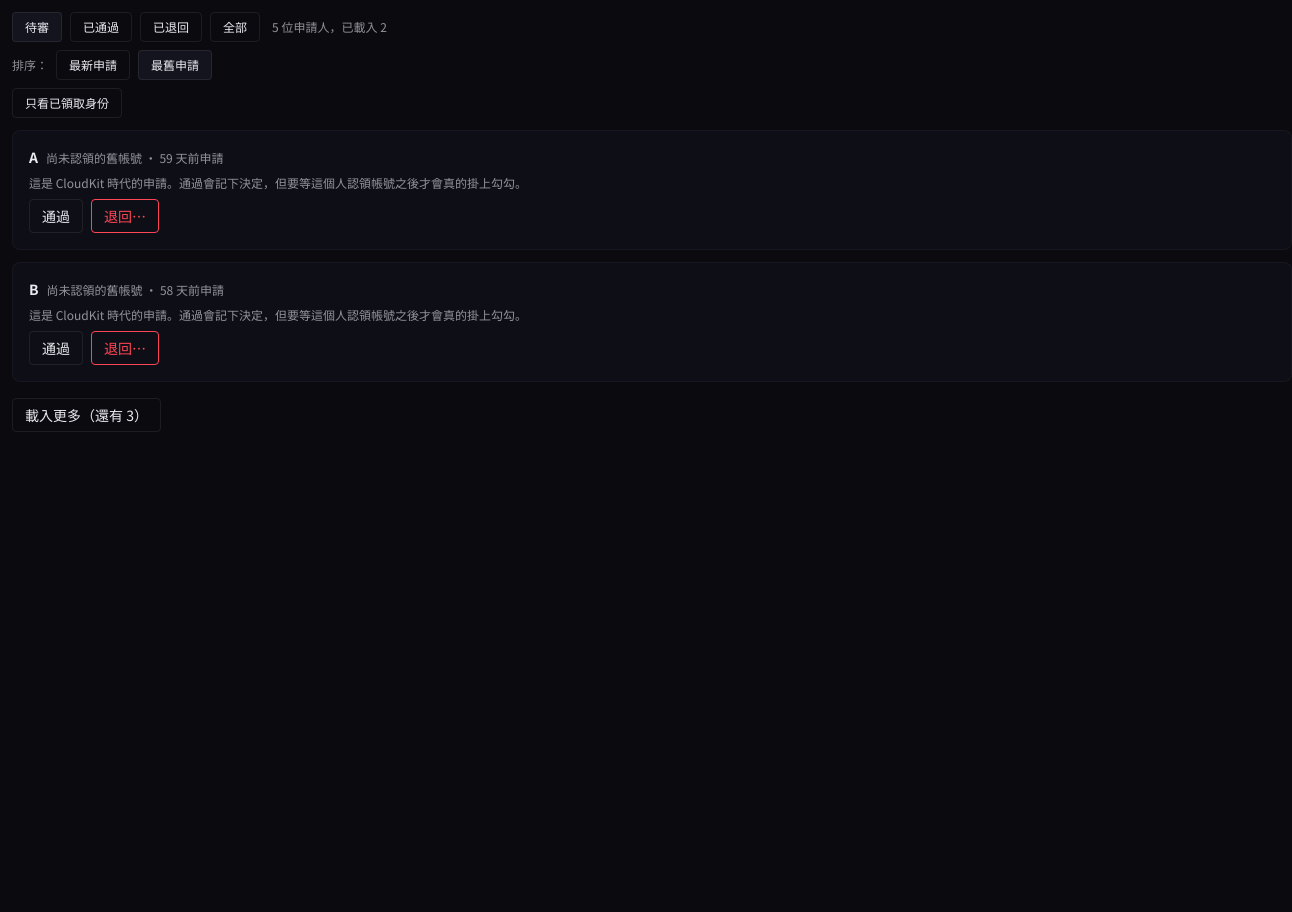
Scenario: BadgesTab paging › does not skip anyone when a review finishes while the next page is on its way
This screenshot has width=1292, height=912.
Click the button "最新申請" at (93, 65), box [56,50,130,80]
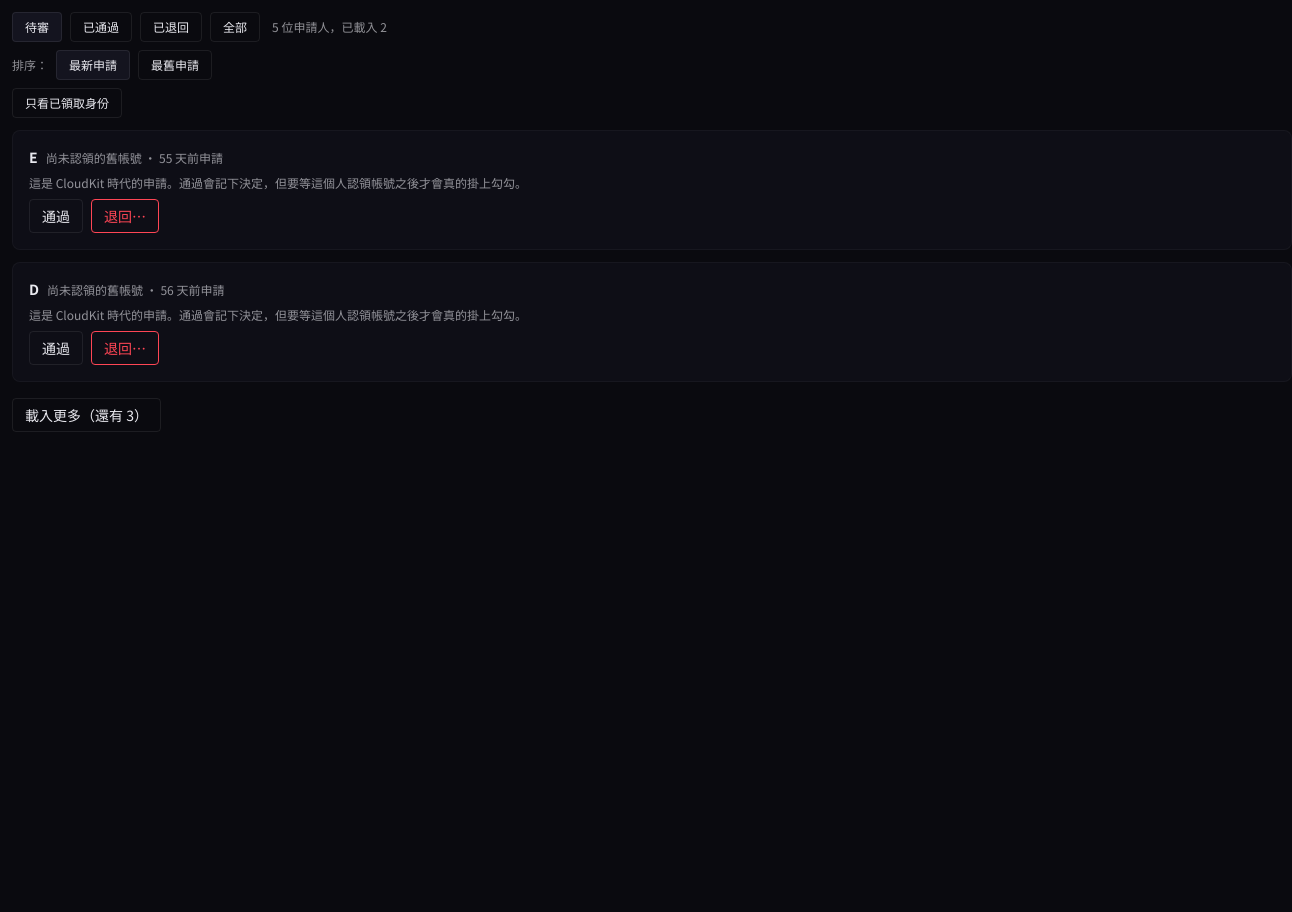
Click the button "通過" below "55 天前" at (56, 216), box [29,199,83,233]
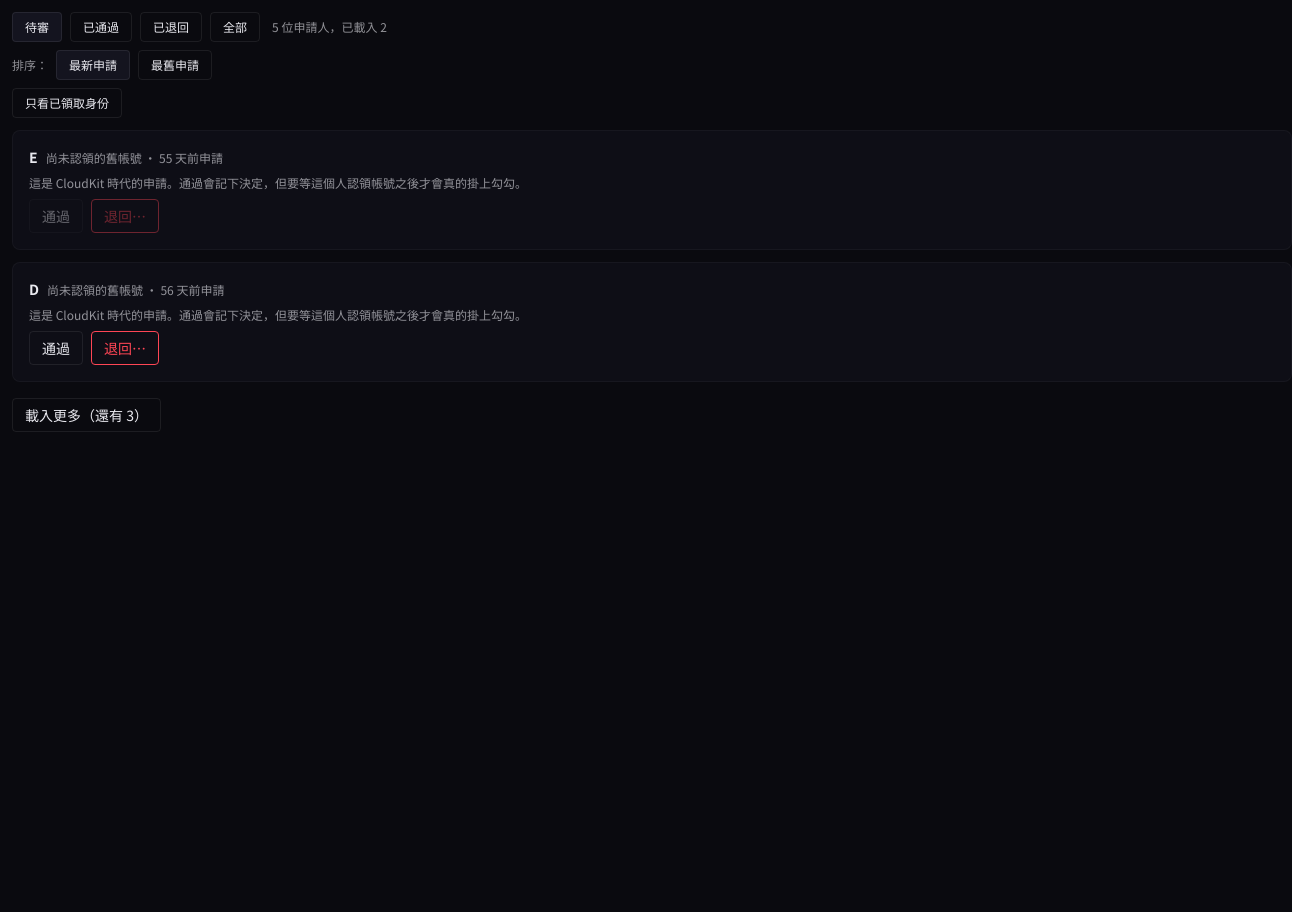
Click the button "載入更多（還有 3）" at (86, 415), box [12,398,161,432]
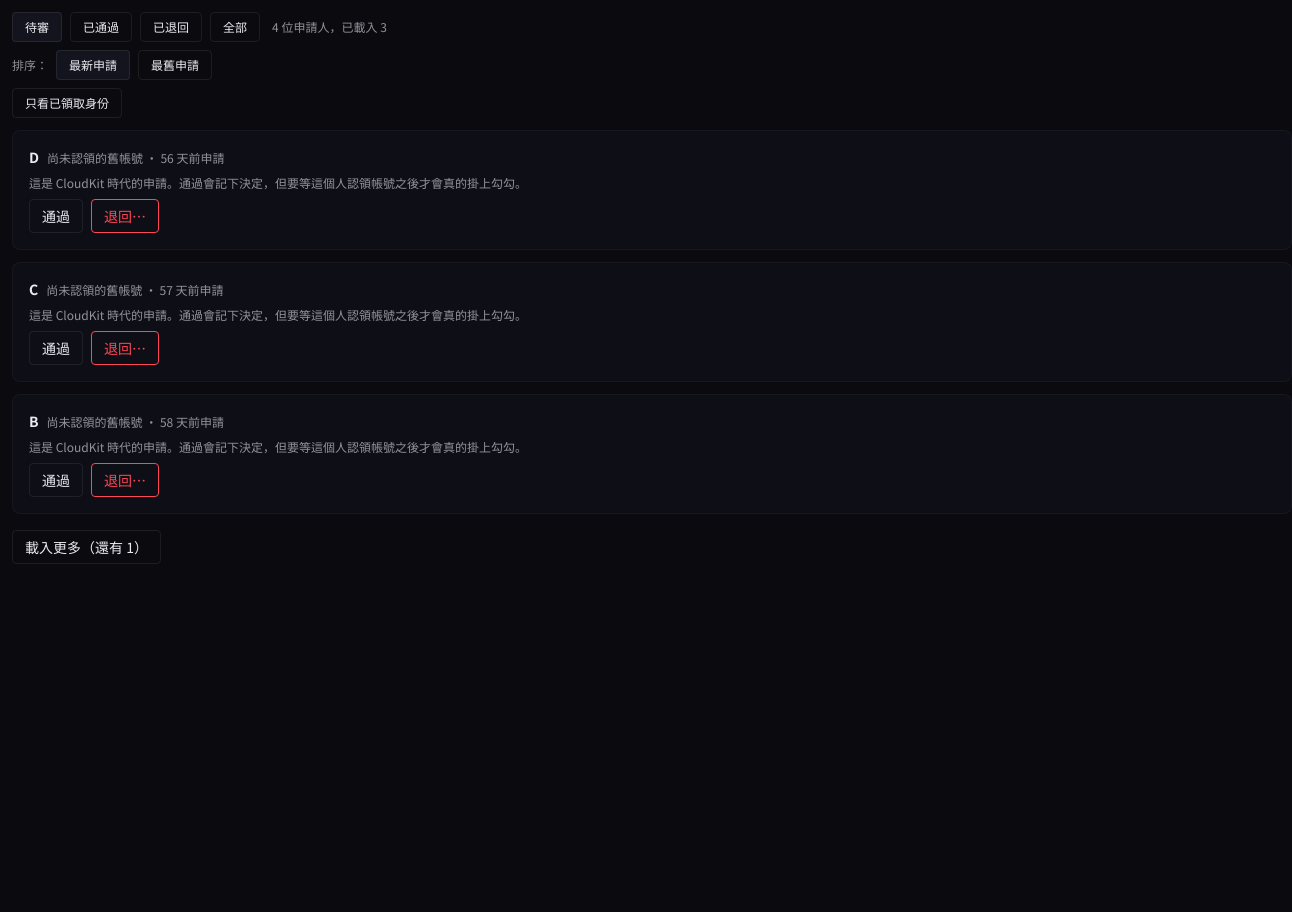
Click the button "載入更多（還有 1）" at (86, 547), box [12,530,161,564]
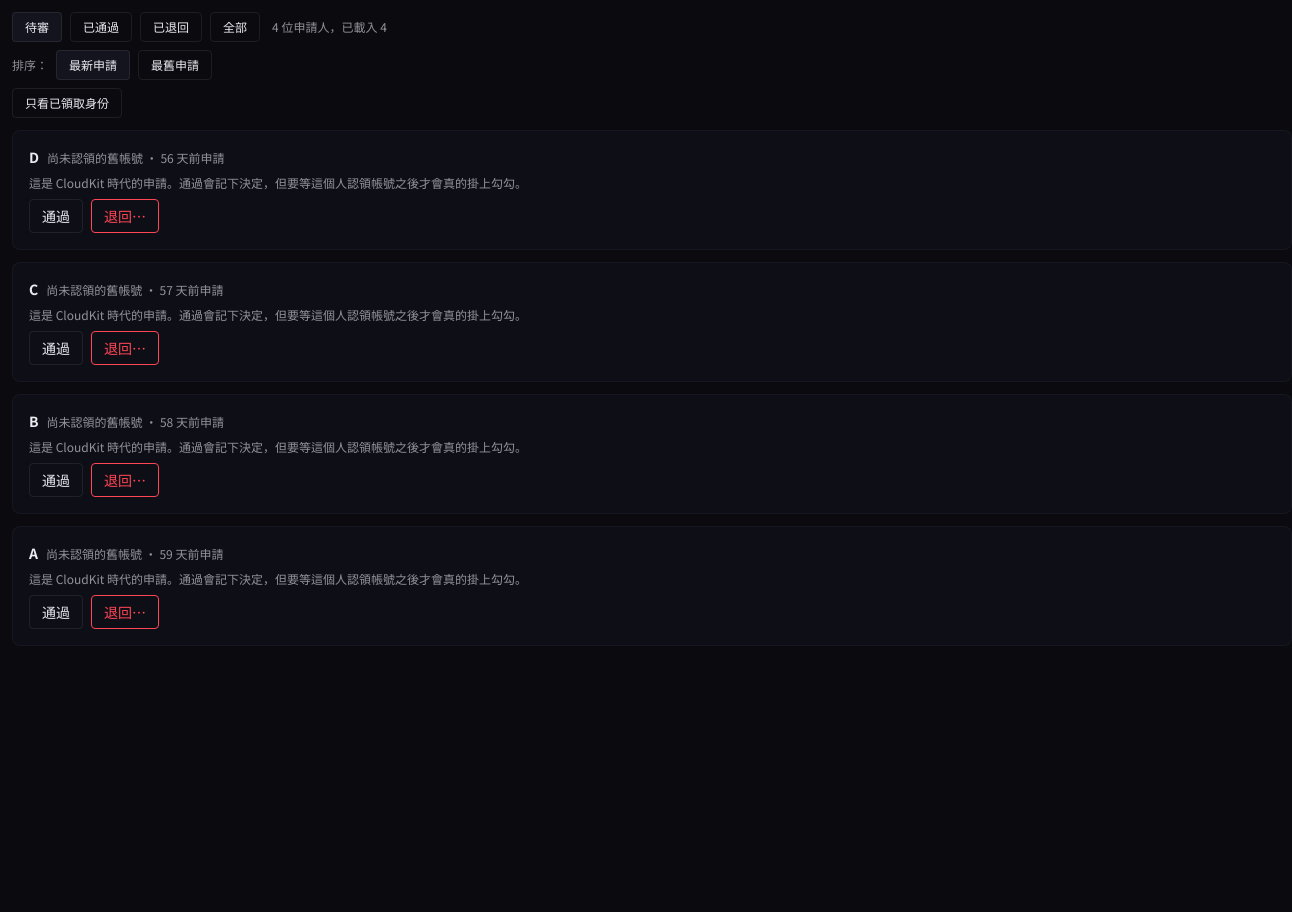
Now the button "載入更多" is gone
